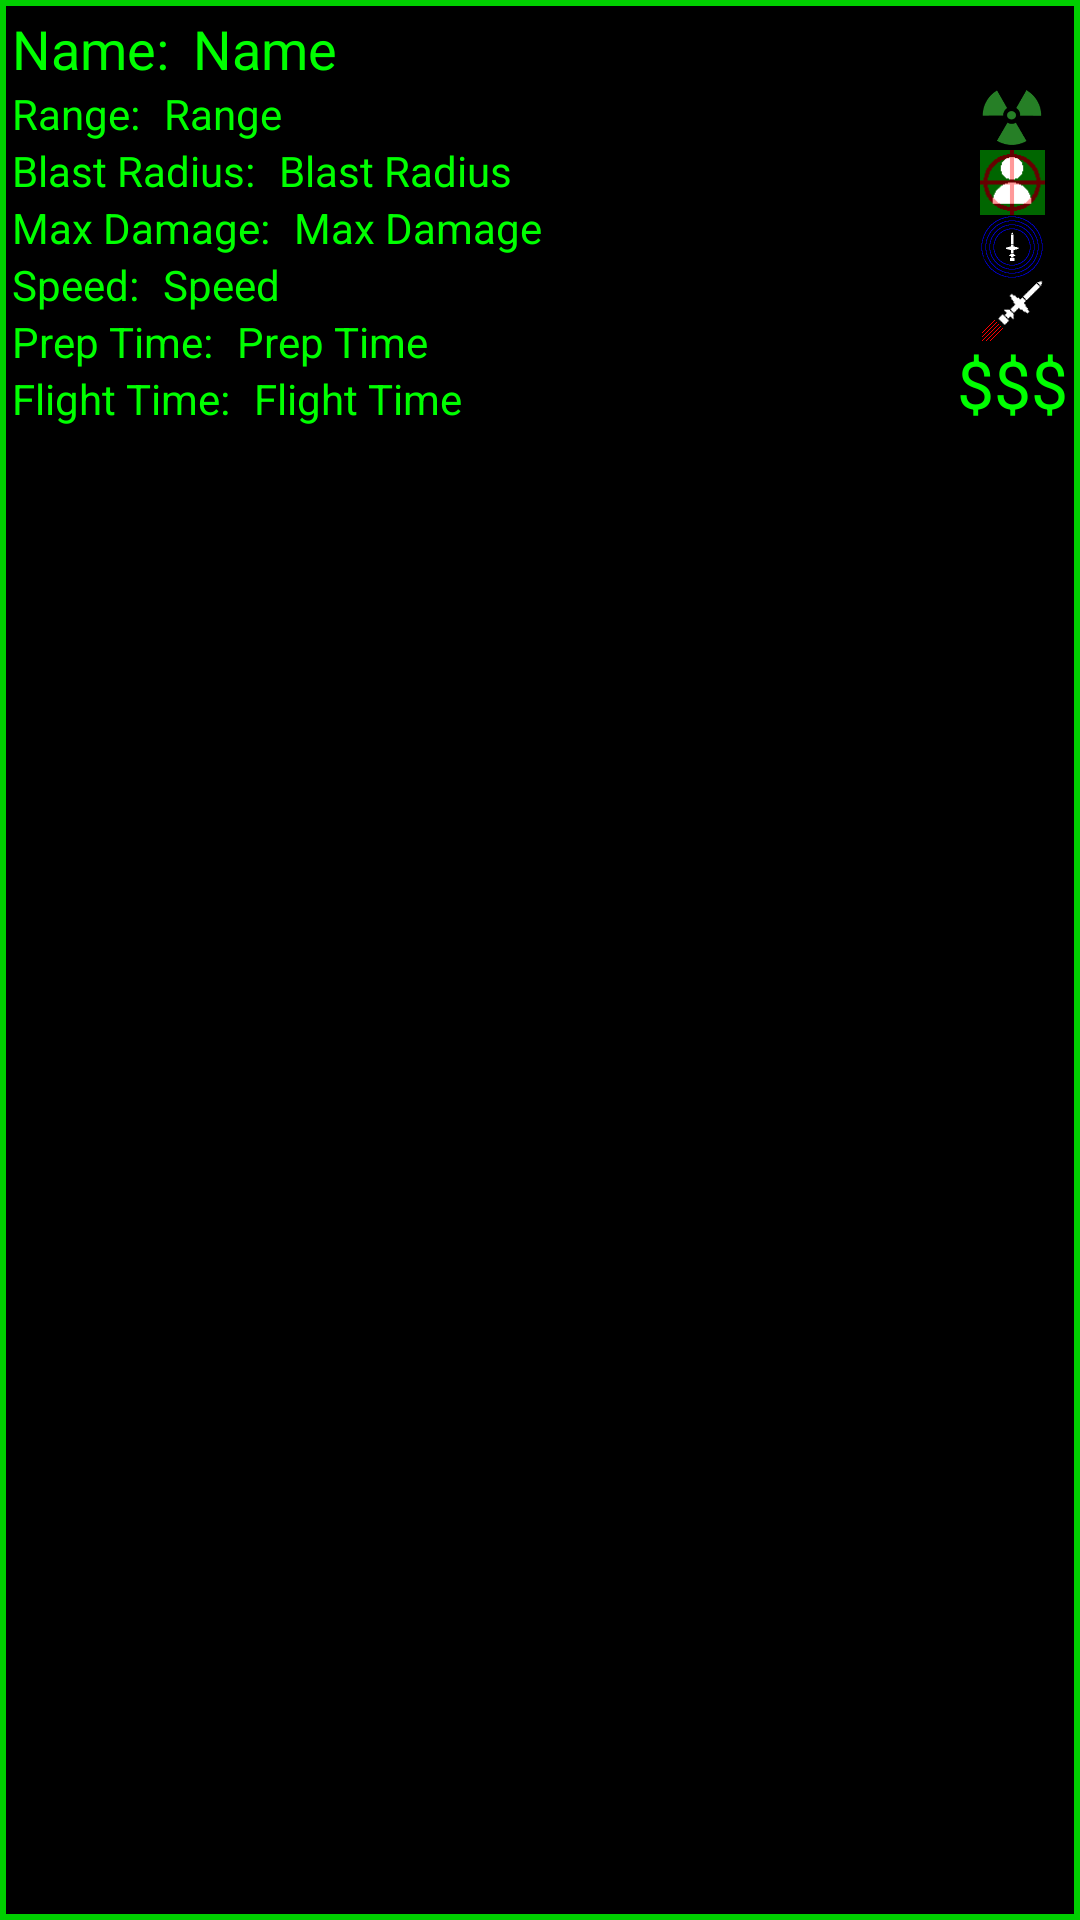

Point at icon controls on the screen. Image size 1080 x 1920, points as (x,y).
ecm missile: (1012,247)
fast missile: (1012,311)
player targetting: (1012,182)
radiation trefoil: (1011,117)
